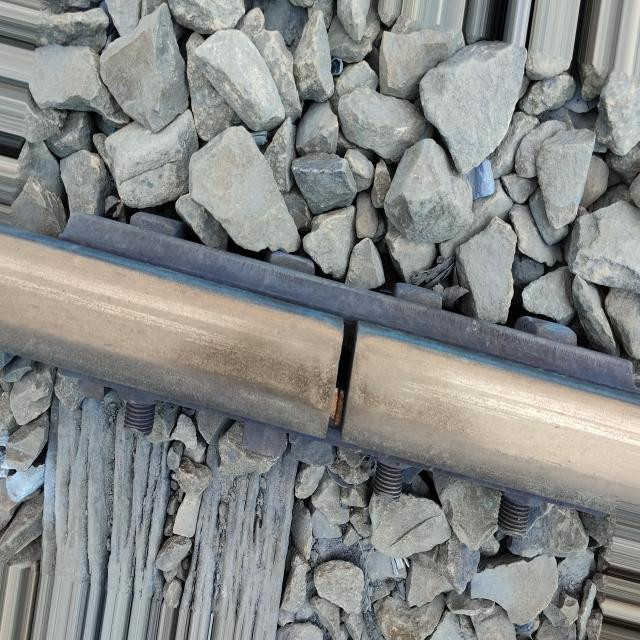crack: (303, 297, 398, 456)
